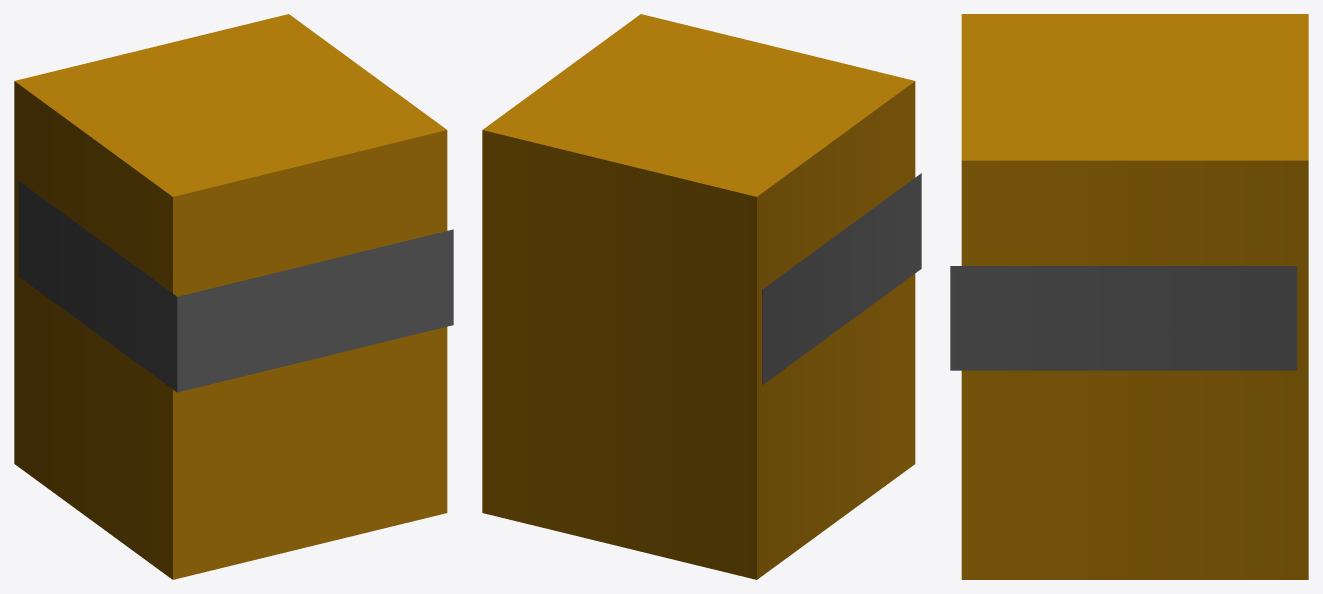
File: building-12-low.glb
The picture shows the model from 3 angles, left to right: view 1: azimuth 30°, elevation 25°; view 2: azimuth 150°, elevation 25°; view 3: azimuth 270°, elevation 25°; orthographic projection. The views are drawn at different scales.
Visible parts, largest first — view 1: mesh0; view 2: mesh0; view 3: mesh0.
Boxes of the visible parts, x1,y1,x2,y2 form: mesh0: [14, 14, 453, 579]; mesh0: [482, 14, 921, 579]; mesh0: [950, 14, 1308, 579].
Bounding box in the file's own units: 0.604 × 0.8 × 0.62.
